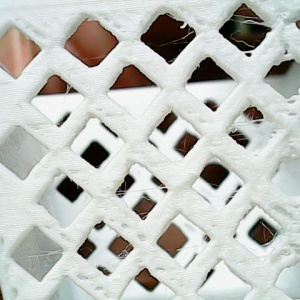3dpstringing: (231, 9, 266, 53), (230, 113, 269, 149), (247, 217, 284, 254), (162, 234, 211, 261), (22, 242, 66, 272), (115, 181, 170, 205), (103, 241, 135, 276), (165, 12, 200, 41), (56, 86, 76, 124), (202, 188, 242, 203), (80, 53, 105, 64), (278, 51, 296, 64), (176, 141, 187, 156), (282, 93, 297, 103)
3dpunderextrusion: (269, 197, 300, 251), (106, 217, 151, 247), (77, 268, 112, 298), (102, 9, 131, 41), (93, 105, 125, 126)
